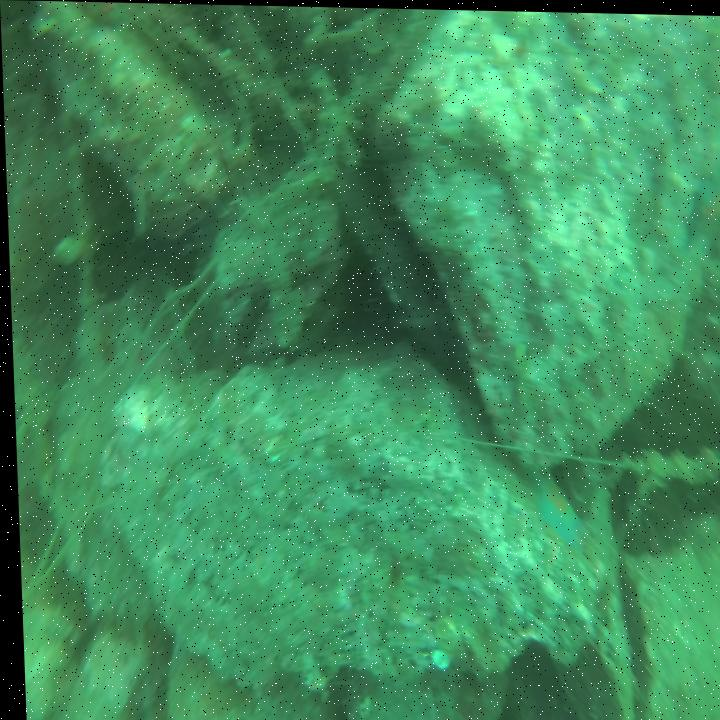starfish: (526, 454, 589, 562)
